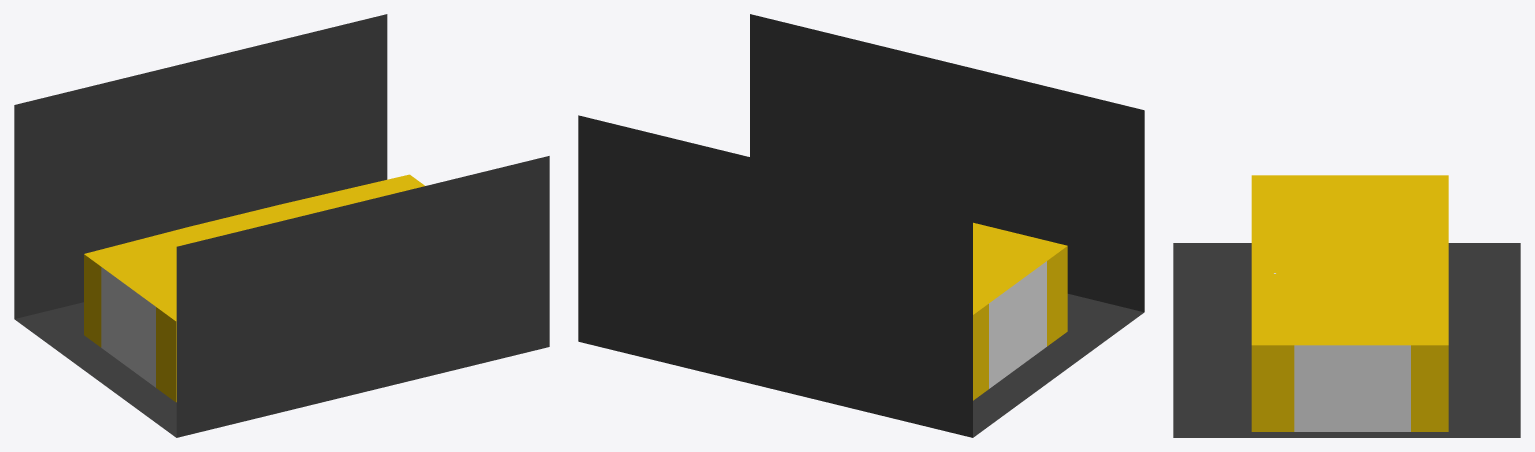
The model's file is Audio Comission Room 101.glb.
3 views of the same model, side by side, from view 1: azimuth 30°, elevation 25°; view 2: azimuth 150°, elevation 25°; view 3: azimuth 270°, elevation 25° (orthographic). The views are drawn at different scales.
Visible parts, largest first — view 1: Floor, Wall, Wall.005; view 2: Floor, Wall, Wall.005; view 3: Wall, Floor, Wall.005.
Boxes of the visible parts, x1,y1,x2,y2 form: Floor: (14, 14, 549, 437); Wall: (84, 174, 424, 402); Wall.005: (101, 267, 155, 387); Floor: (578, 14, 1144, 437); Wall: (973, 222, 1067, 400); Wall.005: (989, 261, 1046, 388); Wall: (1251, 175, 1448, 431); Floor: (1173, 243, 1520, 437); Wall.005: (1294, 345, 1410, 431).
Size of the model in its own units: 8.33 by 4.63 by 6.27.
